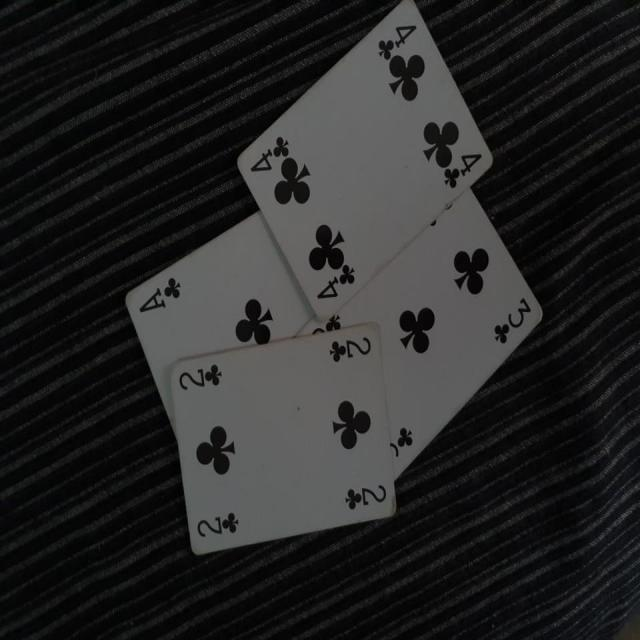2 Trefoils: (170, 318, 400, 558)
3 Trefoils: (292, 186, 544, 482)
4 Trefoils: (235, 1, 496, 323)
A Trefoils: (124, 205, 317, 442)
